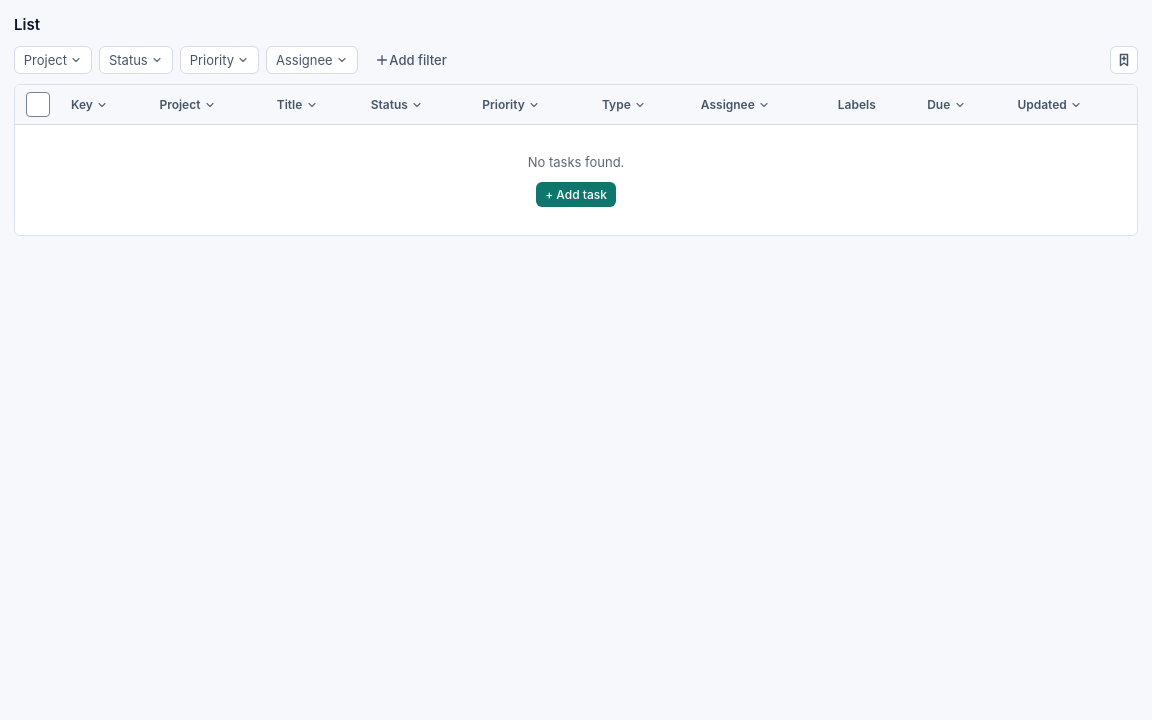
Scenario: ListView › truly-empty list shows a create button that opens the modal (first-run)
The image size is (1152, 720).
Expected: the text "No tasks found." is shown, [528,153,624,172]
Click the button "+ Add task" at coordinates (576, 194), box [536,182,616,206]
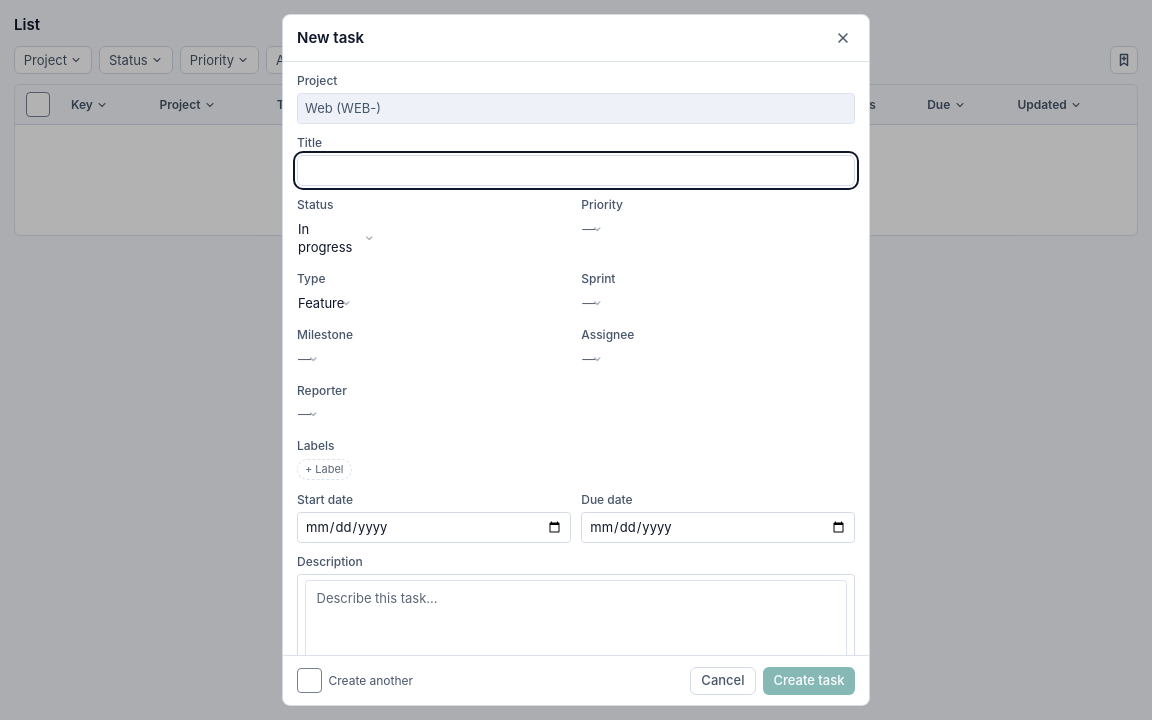
Expected: the dialog with test id "create-task-modal" is shown, [282,14,870,706]
